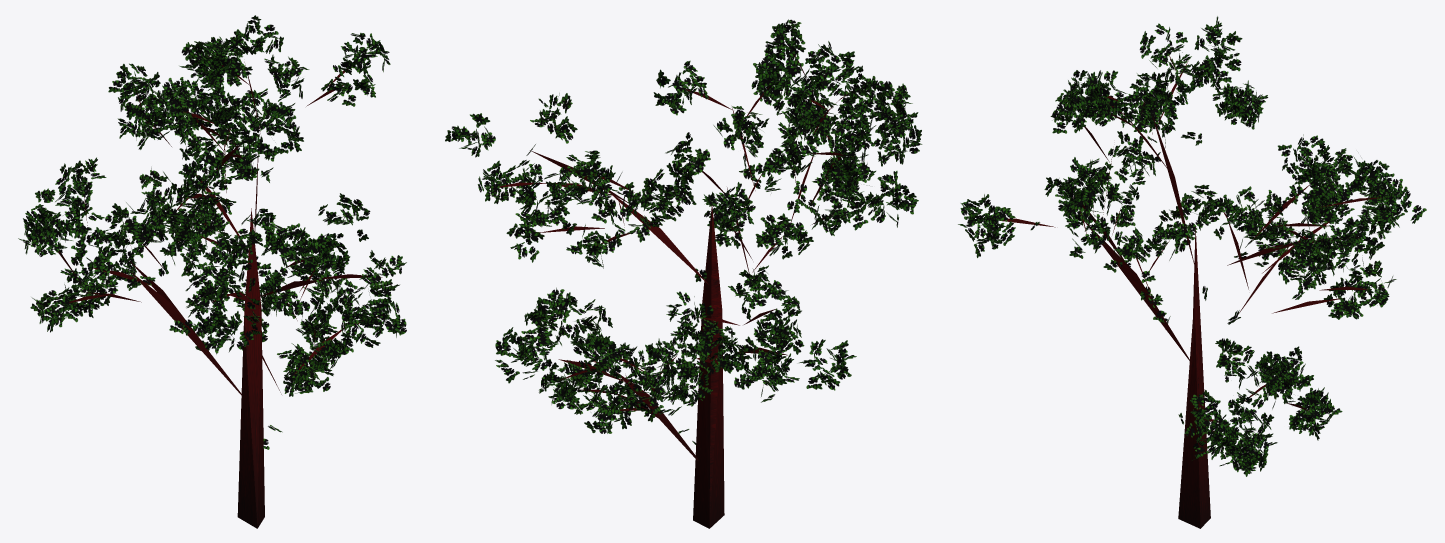
The model's file is evergreen_broad_v03_LOD2.glb.
The picture shows the model from 3 angles, left to right: view 1: azimuth 30°, elevation 25°; view 2: azimuth 150°, elevation 25°; view 3: azimuth 270°, elevation 25°; orthographic projection. The views are drawn at different scales.
Parts seen in each view (by area): view 1: evergreen_broad_v03_LOD2; view 2: evergreen_broad_v03_LOD2; view 3: evergreen_broad_v03_LOD2.
Part boxes in pixels (bbox=[...]): evergreen_broad_v03_LOD2: bbox=[18, 15, 406, 528]; evergreen_broad_v03_LOD2: bbox=[445, 19, 922, 528]; evergreen_broad_v03_LOD2: bbox=[958, 16, 1426, 528].
Bounding box in the file's own units: 22.24 × 26.6 × 25.23.
Materials: 2 (2 with a texture image).
